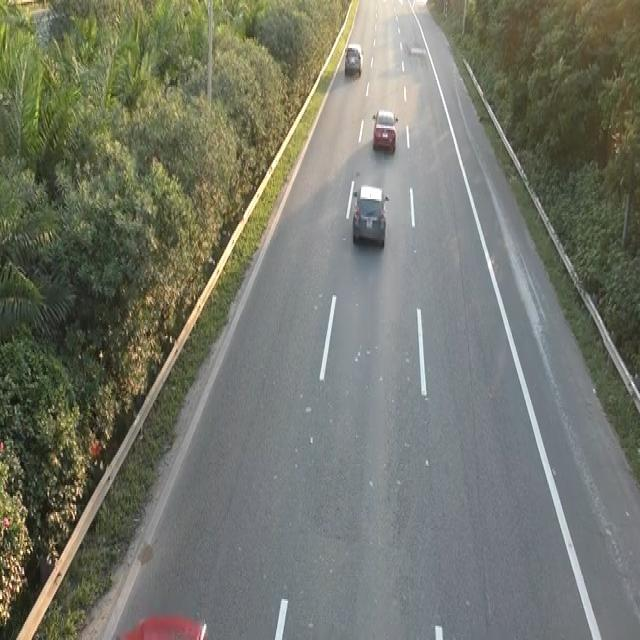bus: (114, 612, 209, 636), (371, 105, 398, 153), (343, 41, 363, 75)
lorry: (349, 180, 391, 254)
